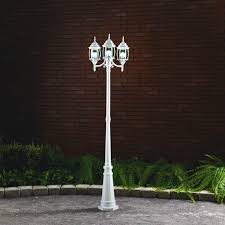light_pole: (96, 39, 124, 215)
